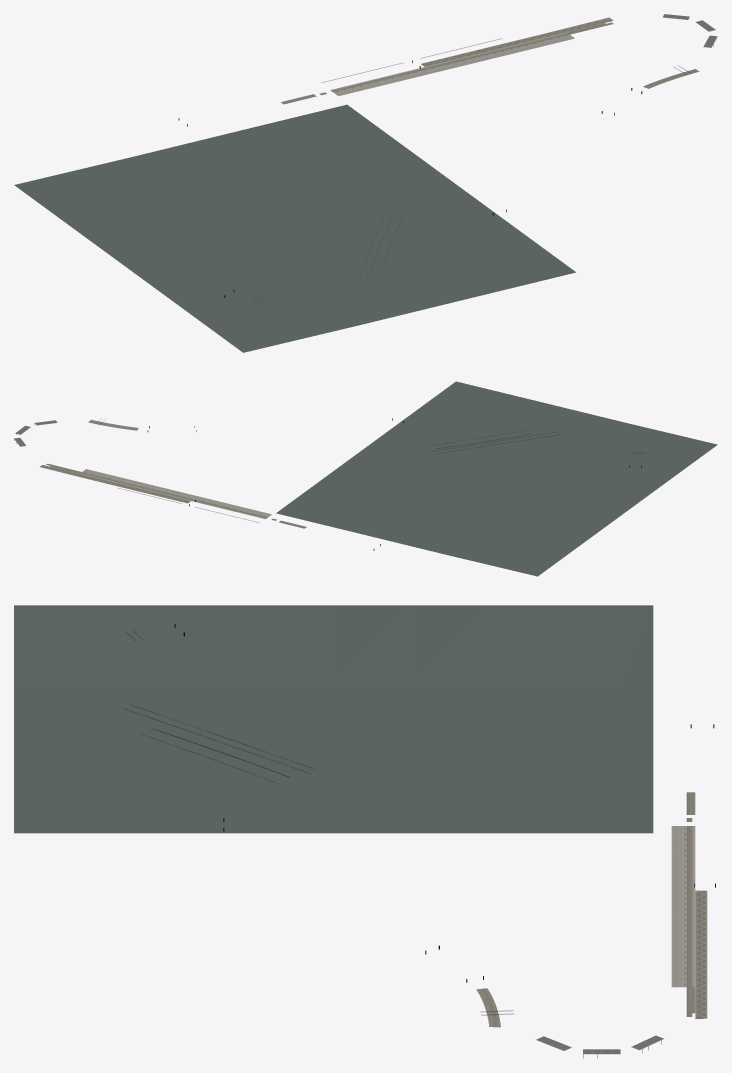
3 views of the same model, one above another, from view 1: azimuth 30°, elevation 25°; view 2: azimuth 150°, elevation 25°; view 3: azimuth 270°, elevation 25° (orthographic). The views are drawn at different scales.
Visible parts, largest first — view 1: highspeedring2_2; view 2: highspeedring2_2; view 3: highspeedring2_2.
Boxes of the visible parts, left/top/right/bottom form: highspeedring2_2: left=14, top=14, right=717, bottom=352; highspeedring2_2: left=14, top=381, right=717, bottom=576; highspeedring2_2: left=14, top=605, right=715, bottom=1058.
Size of what is drawn, in the model's own units: 1381 by 18.24 by 892.
Materials: 9 (9 with a texture image).
